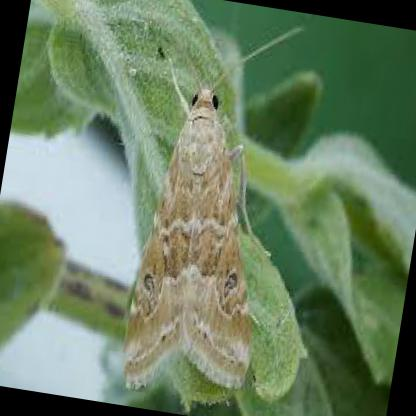Hellula undalis: (121, 23, 302, 390)
